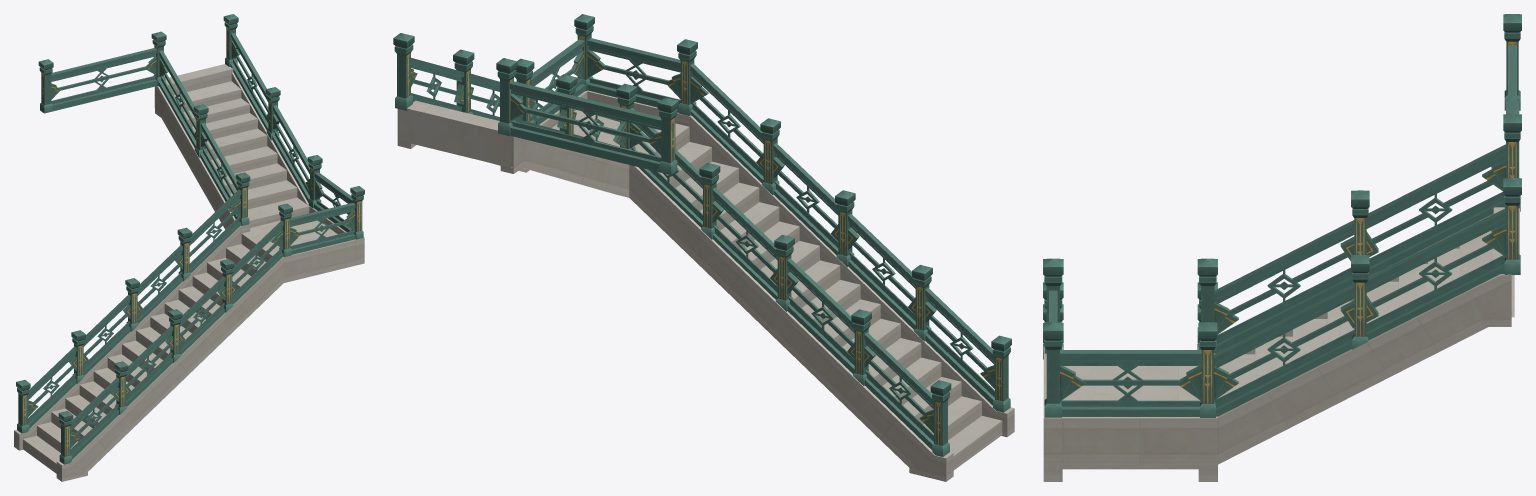
File: Homeworld_Interior_Fd_Room_P_Stair_01_Vo.fbx
3 renders of one model, left to right at view 1: azimuth 30°, elevation 25°; view 2: azimuth 150°, elevation 25°; view 3: azimuth 270°, elevation 25°, orthographic. The views are drawn at different scales.
Visible parts, largest first — view 1: Homeworld_Interior_Fd_Room_P_Stair_01_Vo; view 2: Homeworld_Interior_Fd_Room_P_Stair_01_Vo; view 3: Homeworld_Interior_Fd_Room_P_Stair_01_Vo.
Boxes of the visible parts, x1,y1,x2,y2 form: Homeworld_Interior_Fd_Room_P_Stair_01_Vo: (14,14,364,481); Homeworld_Interior_Fd_Room_P_Stair_01_Vo: (393,14,1014,481); Homeworld_Interior_Fd_Room_P_Stair_01_Vo: (1043,14,1521,481).
Bounding box in the file's own units: 6.37 × 6.03 × 4.8.
